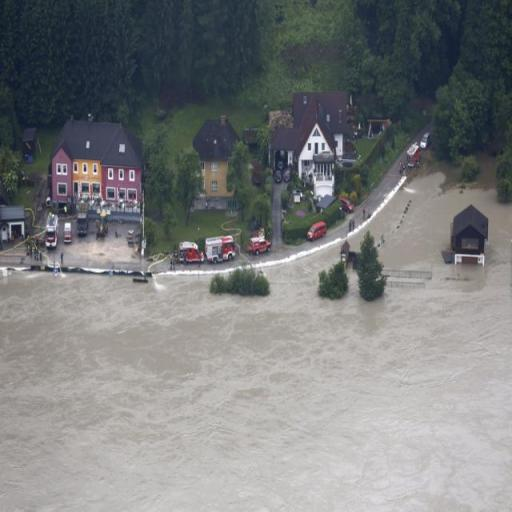flood: (0, 169, 512, 512), (422, 162, 462, 191), (467, 153, 498, 190)
house: (49, 115, 145, 212), (194, 114, 246, 202), (295, 110, 337, 198), (449, 198, 490, 264)
